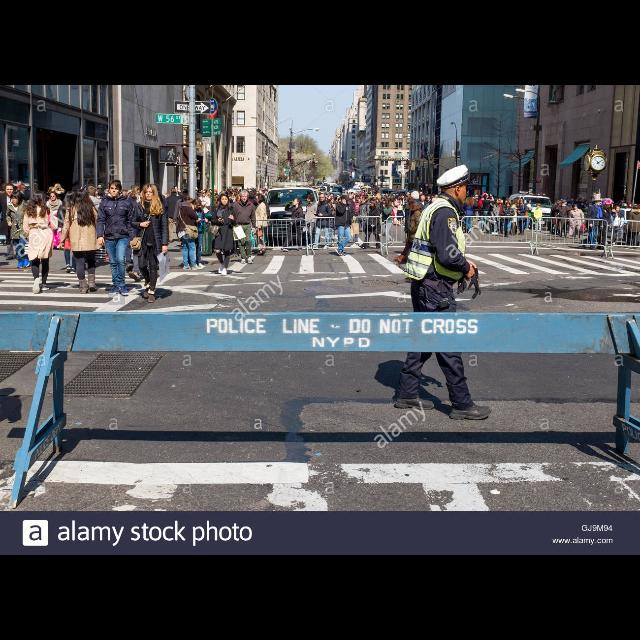head: (440, 174, 470, 206), (108, 181, 122, 197), (32, 192, 48, 206), (144, 185, 156, 201), (76, 190, 88, 203), (218, 194, 230, 206), (12, 192, 22, 205), (4, 184, 14, 196), (187, 198, 196, 210), (194, 198, 202, 210), (382, 198, 390, 208), (306, 195, 316, 203), (241, 192, 249, 202), (256, 194, 264, 203), (51, 192, 58, 202), (594, 198, 602, 206), (411, 192, 419, 200), (419, 194, 426, 202), (369, 200, 376, 207), (616, 206, 622, 214), (342, 195, 348, 203), (320, 194, 326, 202), (294, 198, 300, 206), (360, 195, 366, 202), (633, 205, 639, 211), (483, 194, 489, 200), (574, 205, 578, 211), (536, 204, 542, 208), (562, 200, 566, 206), (520, 198, 524, 204), (496, 198, 500, 204), (475, 194, 479, 200), (427, 196, 431, 202), (528, 200, 532, 204), (507, 204, 511, 208), (468, 198, 472, 202), (514, 200, 518, 204), (202, 192, 206, 196)
person: (388, 162, 494, 422), (54, 188, 106, 296), (95, 179, 139, 297), (130, 183, 170, 304), (21, 191, 55, 297), (394, 190, 428, 266), (5, 191, 37, 269), (210, 192, 238, 278), (176, 196, 204, 272), (232, 190, 256, 266), (1, 184, 23, 262), (188, 197, 210, 269), (333, 195, 357, 258), (356, 198, 384, 250), (580, 194, 604, 252), (311, 192, 334, 252), (280, 197, 304, 253), (44, 190, 64, 253), (252, 194, 268, 256), (304, 194, 320, 252), (358, 195, 372, 247), (382, 198, 396, 246), (610, 206, 626, 247), (556, 199, 572, 239), (568, 204, 586, 238), (480, 194, 496, 232), (197, 190, 211, 230), (416, 194, 430, 232), (502, 202, 516, 238), (516, 198, 528, 236), (489, 198, 501, 236), (464, 196, 476, 234), (522, 199, 534, 231), (470, 193, 480, 231), (510, 199, 520, 237), (532, 203, 544, 233), (423, 194, 433, 222)
